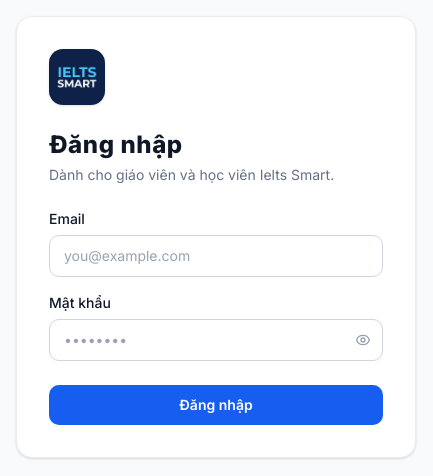
Test: AUTH-09 — Submit button disabled and shows pending label while mutating › submit button becomes disabled and shows 'Đang đăng nhập...' while pending
Type "test@test.com" into the field with test id "email-input" at [216, 256], box [49,235,383,277]
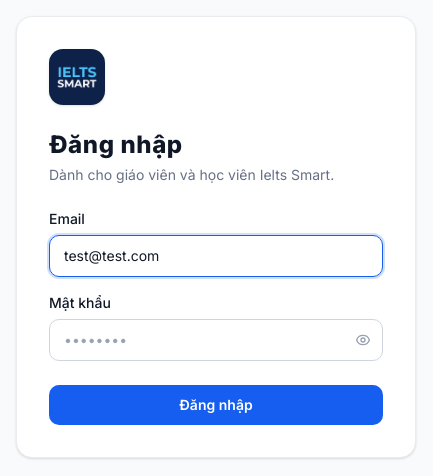
Type "password123" into the password field with test id "password-input" at [216, 340], box [49,319,383,361]
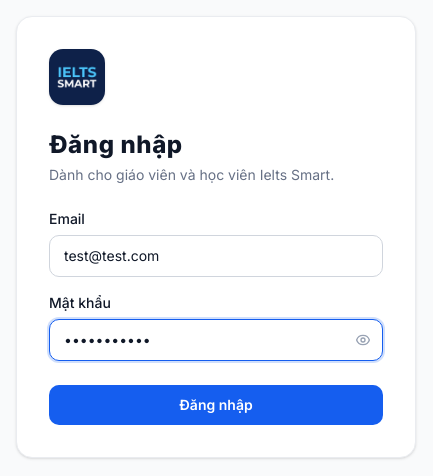
Click the button with test id "login-submit" at [216, 405], box [49,385,383,425]
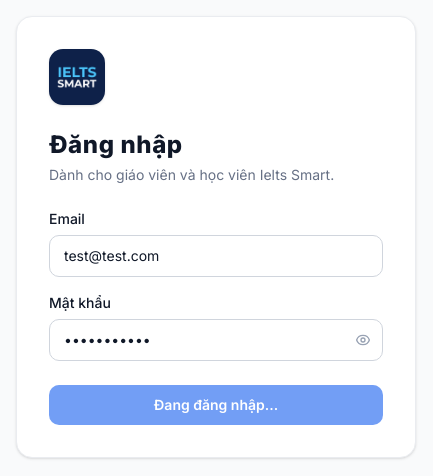
Check: the button with test id "login-submit" is disabled, box [49,385,383,425]
Check: the button with test id "login-submit" reads "Đang đăng nhập...", box [49,385,383,425]
